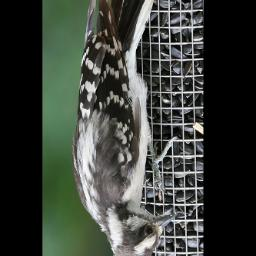Woodpecker: (72, 0, 179, 256)
